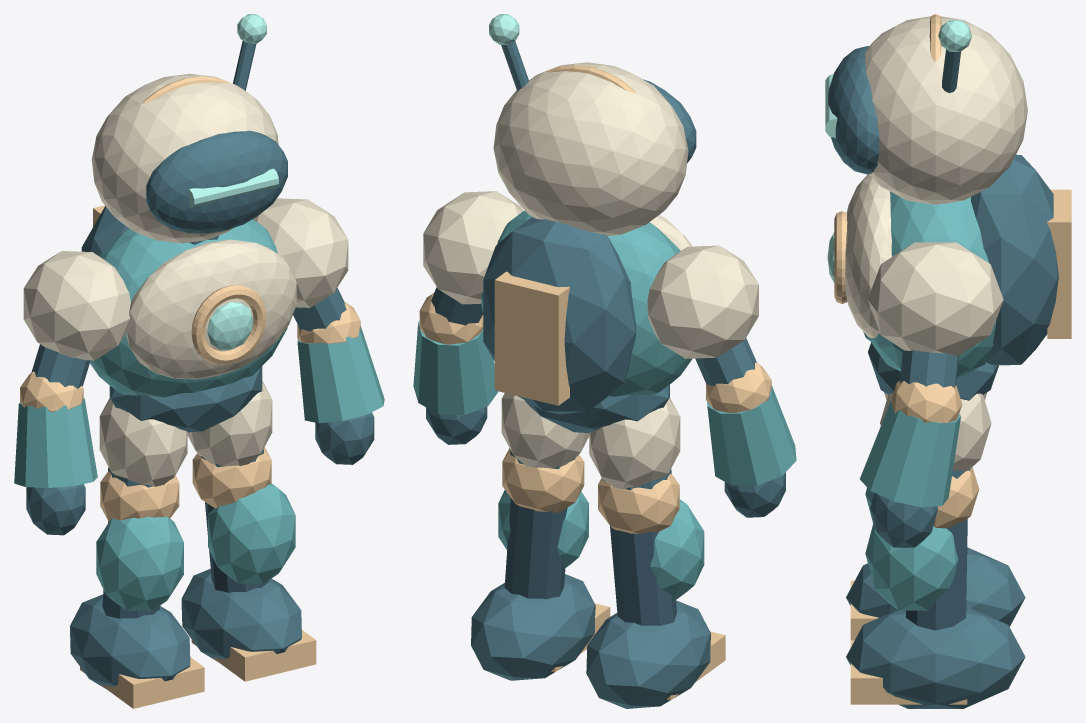
Rendered from 01_iris_exploradora.glb.
3 views of the same model, side by side, from view 1: azimuth 30°, elevation 25°; view 2: azimuth 150°, elevation 25°; view 3: azimuth 270°, elevation 25° (orthographic). The views are drawn at different scales.
Parts seen in each view (by area): view 1: helmet_032, chest_016, visor_033, shoulder_020, torso_015, boot_000, boot_007, shin_armor_003, shin_armor_010, shoulder_025, gauntlet_023, gauntlet_028 (+22 smaller); view 2: helmet_032, backpack_030, shoulder_020, boot_000, boot_007, battery_031, shoulder_025, torso_015, gauntlet_023, thigh_armor_006, gauntlet_028, shin_009 (+18 smaller); view 3: helmet_032, boot_007, backpack_030, shoulder_025, gauntlet_028, torso_015, shin_armor_010, chest_016, visor_033, boot_000, battery_031, hand_029 (+13 smaller).
Part boxes in pixels (x1,y1,x2,y2): helmet_032: (91,73,278,243); chest_016: (126,239,296,379); visor_033: (146,130,287,233); shoulder_020: (23,251,130,360); torso_015: (90,219,287,397); boot_000: (70,594,190,688); boot_007: (181,569,301,660); shin_armor_003: (96,516,183,611); shin_armor_010: (208,483,295,583); shoulder_025: (253,198,348,307); gauntlet_023: (14,398,97,487); gauntlet_028: (297,326,384,423); helmet_032: (493,62,688,235); backpack_030: (483,217,635,414); shoulder_020: (647,245,758,358); boot_000: (586,600,710,708); boot_007: (471,574,595,680); battery_031: (494,271,569,405); shoulder_025: (423,191,523,304); torso_015: (481,211,691,396); gauntlet_023: (707,385,796,485); thigh_armor_006: (589,398,680,489); gauntlet_028: (413,321,498,415); shin_009: (504,498,567,599); helmet_032: (865,16,1027,204); boot_007: (846,606,1025,708); backpack_030: (971,154,1058,365); shoulder_025: (868,242,1003,356); gauntlet_028: (860,401,960,507); torso_015: (868,191,996,378); shin_armor_010: (865,522,958,610); chest_016: (845,174,891,337); visor_033: (828,46,879,174); boot_000: (846,547,1025,626); battery_031: (1047,189,1071,338); hand_029: (870,493,937,547).
Bounding box in the file's own units: 1.87 × 3.16 × 1.01.
